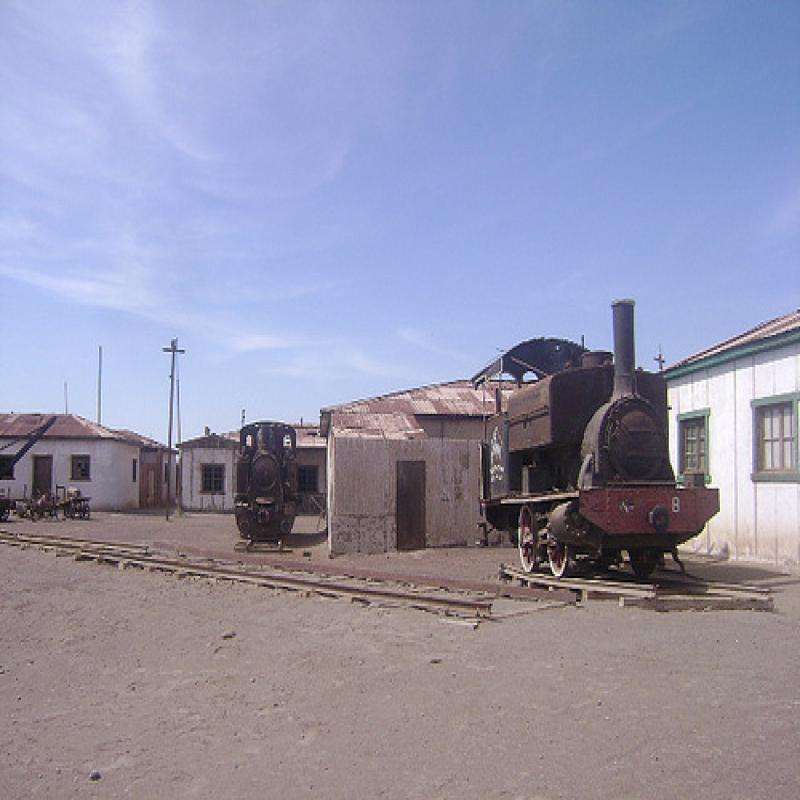train: (472, 300, 723, 588), (235, 419, 302, 554)
